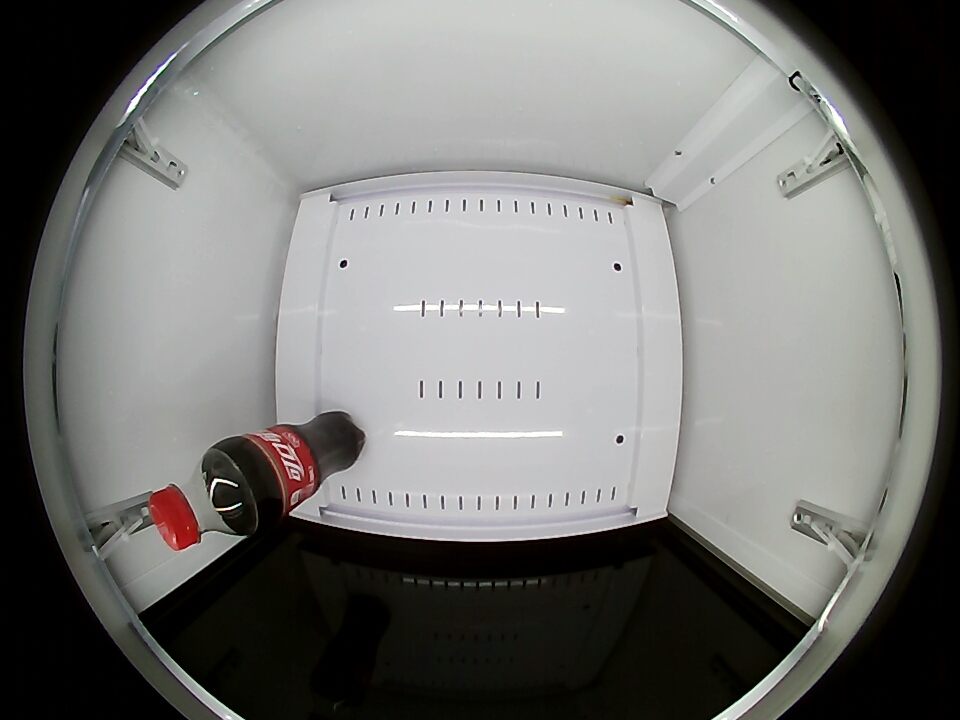kele-b: (150, 448, 255, 551)
